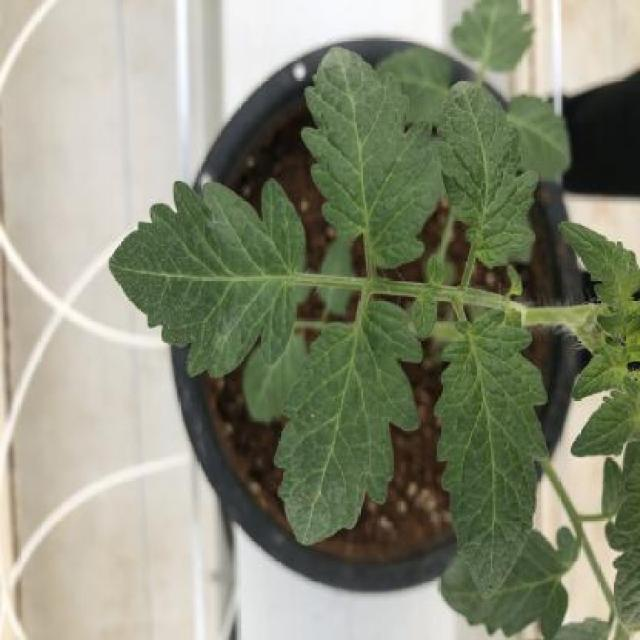Healthy: (109, 181, 306, 378), (275, 301, 423, 544), (434, 309, 548, 600), (300, 47, 438, 269), (436, 80, 539, 269)
